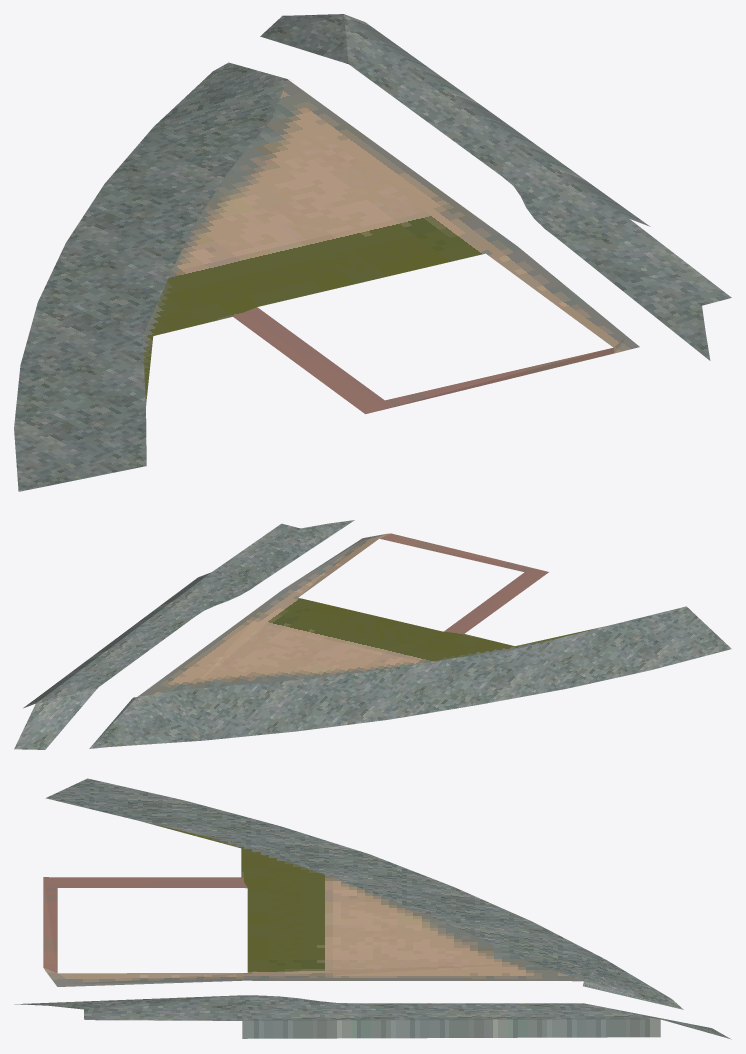
File: lodorthland07.obj
3 views of the same model, one above another, from view 1: azimuth 30°, elevation 25°; view 2: azimuth 150°, elevation 25°; view 3: azimuth 270°, elevation 25° (orthographic). The views are drawn at different scales.
Parts seen in each view (by area): view 1: lodorthland07; view 2: lodorthland07; view 3: lodorthland07.
Boxes of the visible parts, x1,y1,x2,y2 form: lodorthland07: (14, 14, 731, 491); lodorthland07: (14, 520, 731, 749); lodorthland07: (14, 778, 731, 1039).
Bounding box in the file's own units: 133 × 6.18 × 151.
2 materials, 2 textured.
